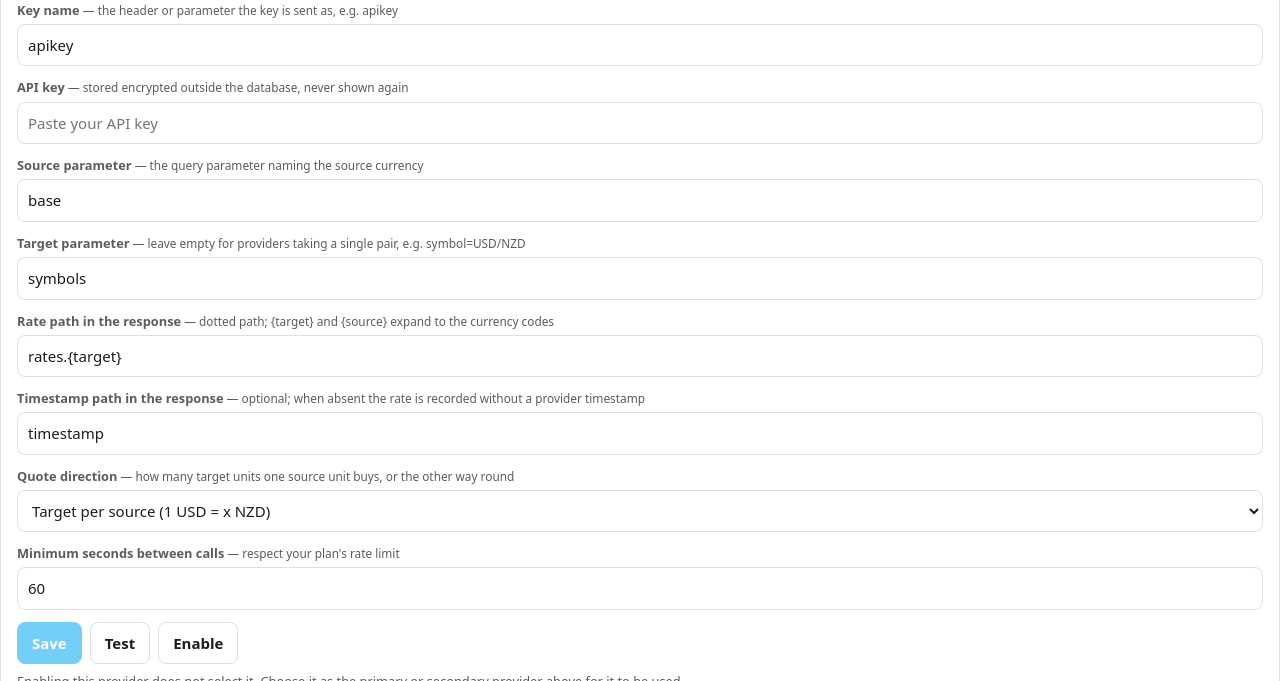
GenericProviderSettingsPanel › shows the rate a successful test returned
The image size is (1280, 681).
(page scrolled)
Click the button "Test". click: (120, 643)
box: [90,622,150,664]
(page scrolled)
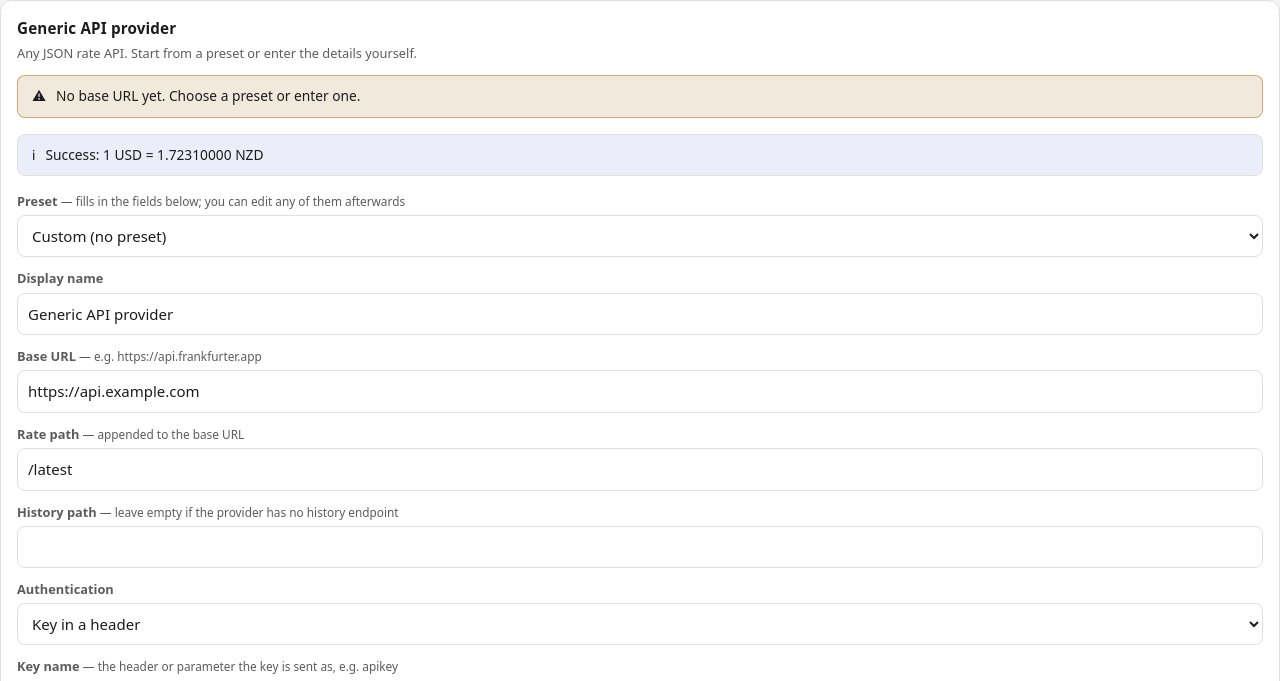
Check: the text "Success: 1 USD = 1.72310000 NZD" is shown, box [46,145,264,165]
